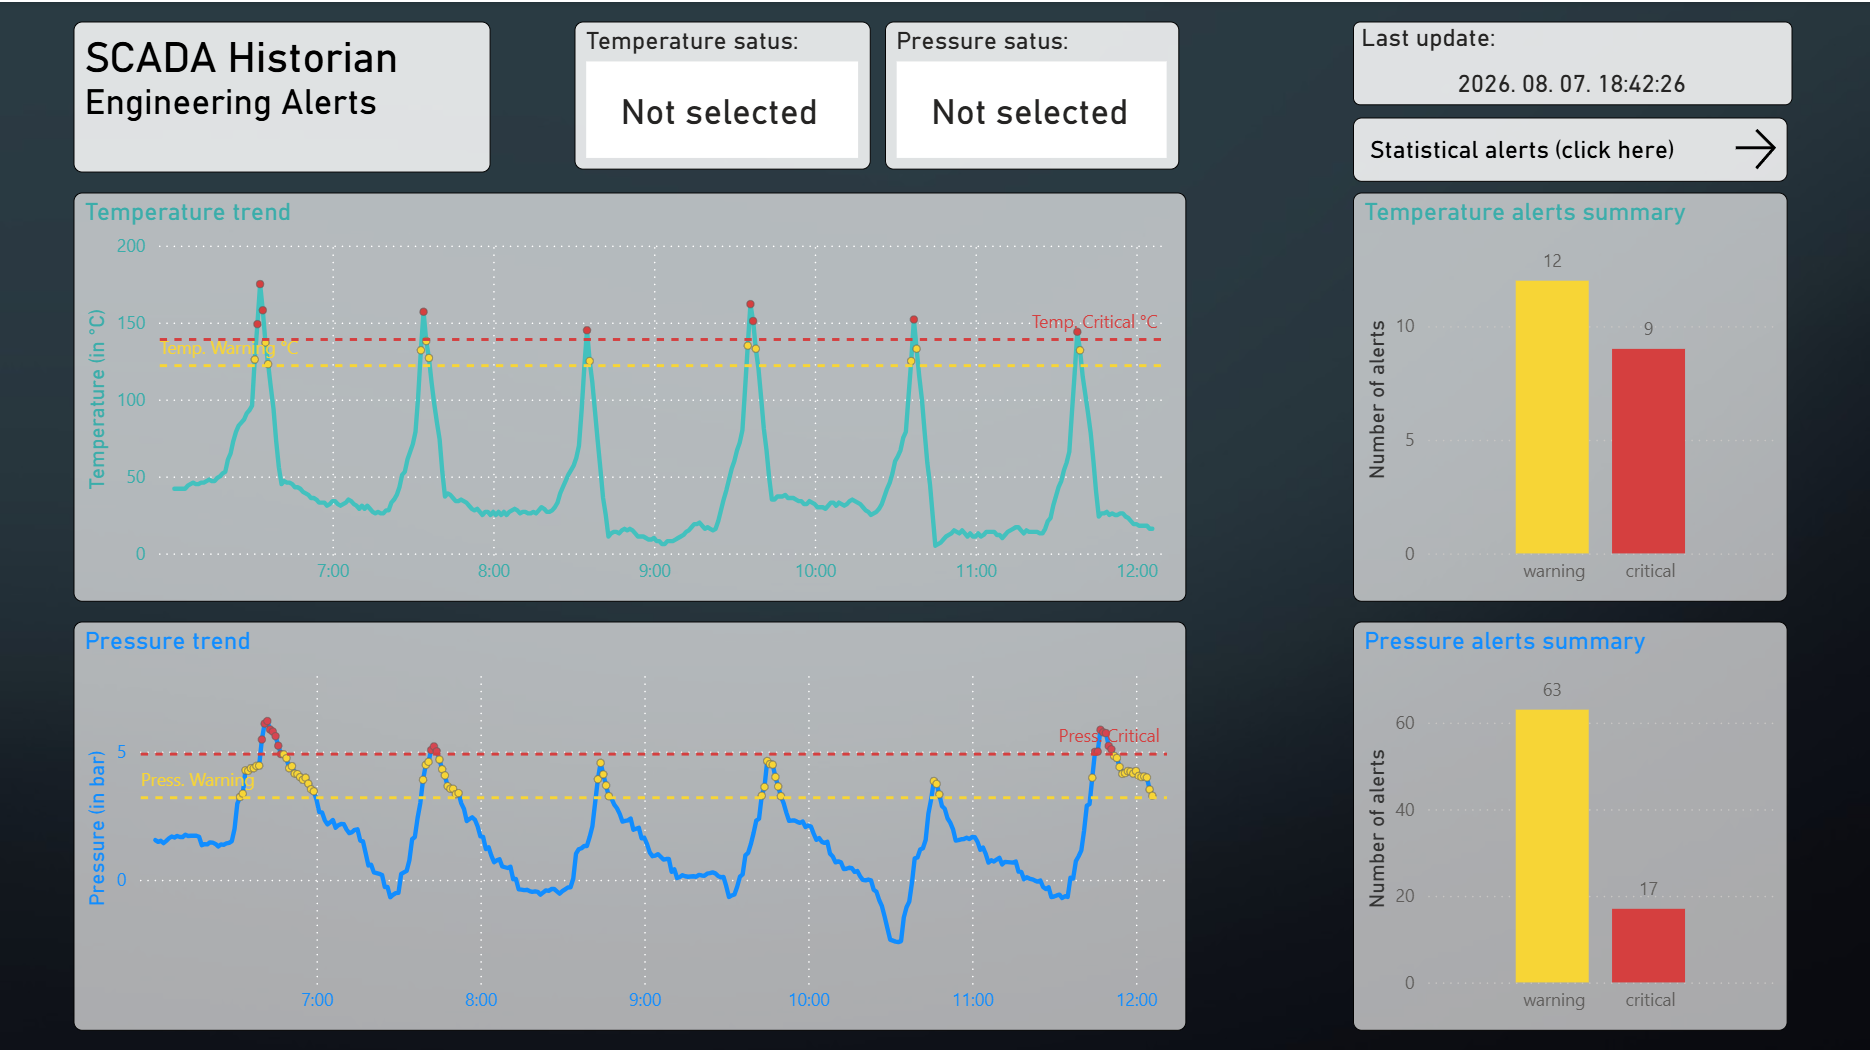

The page's visual inventory and layout, read from the dashboard file:
{"tool":"powerbi","page":{"name":"Engineering_alerts","canvas":[1280,720],"ordinal":0},"visuals":[{"type":"lineChart","title":"Temperature trend","fields":{"Category":["process_data.timestamp"],"Y":["process_data.M_temp_warning","process_data.M_temp_critical","Sum(process_data.temperature)"]},"box":[50.8,130.7,761.1,279.9],"z":0},{"type":"lineChart","title":"Pressure trend","fields":{"Category":["process_data.timestamp"],"Y":["process_data.M_press_critical","process_data.M_press_warning","Sum(process_data.pressure)"]},"box":[50.2,423.6,761.1,279.9],"z":1000},{"type":"textbox","box":[50.8,13.6,285.5,103.4],"z":2000},{"type":"actionButton","box":[925.2,78.6,297.3,44],"z":3000},{"type":"clusteredColumnChart","title":"Temperature alerts summary","fields":{"Category":["engineering_alerts.level"],"Y":["CountNonNull(engineering_alerts.value)"]},"box":[925.2,130.7,297.3,279.9],"z":4000},{"type":"clusteredColumnChart","title":"Pressure alerts summary","fields":{"Category":["engineering_alerts.level"],"Y":["CountNonNull(engineering_alerts.value)"]},"box":[925.2,423.6,297.3,279.9],"z":5000},{"type":"cardVisual","title":"Temperature satus:","fields":{"Data":["engineering_alerts.temp_text"]},"box":[392.6,13.6,202.5,101.6],"z":6000},{"type":"cardVisual","title":"Pressure satus:","fields":{"Data":["engineering_alerts.press_text"]},"box":[605.6,13.6,201.3,101.6],"z":7000},{"type":"cardVisual","title":"Last update:","fields":{"Data":["Min(Query1.UtolsoFrissites)"]},"box":[925.2,13.6,300.3,57.6],"z":8000}]}

Visuals, with their boxes in screenshot pixels (x1, y1, x2, y2), scaled from the page's 1280x720 canvas onto the 1870x1050 screenshot:
"Temperature trend" lineChart: <box>74,191,1186,599</box>
"Pressure trend" lineChart: <box>73,618,1185,1026</box>
textbox: <box>74,20,491,171</box>
actionButton: <box>1352,115,1786,179</box>
"Temperature alerts summary" clusteredColumnChart: <box>1352,191,1786,599</box>
"Pressure alerts summary" clusteredColumnChart: <box>1352,618,1786,1026</box>
"Temperature satus:" cardVisual: <box>574,20,869,168</box>
"Pressure satus:" cardVisual: <box>885,20,1179,168</box>
"Last update:" cardVisual: <box>1352,20,1790,104</box>
